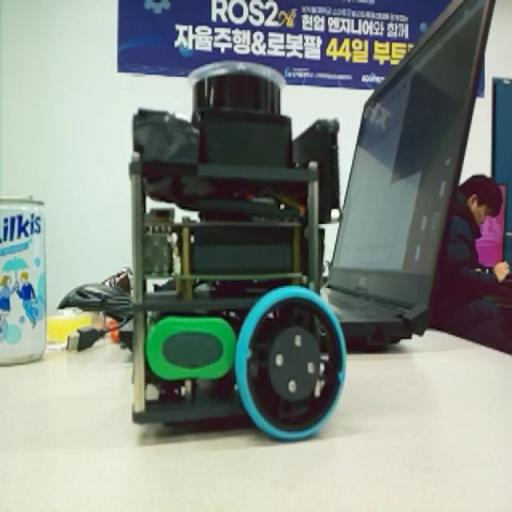pinky_63: (125, 56, 355, 442)
